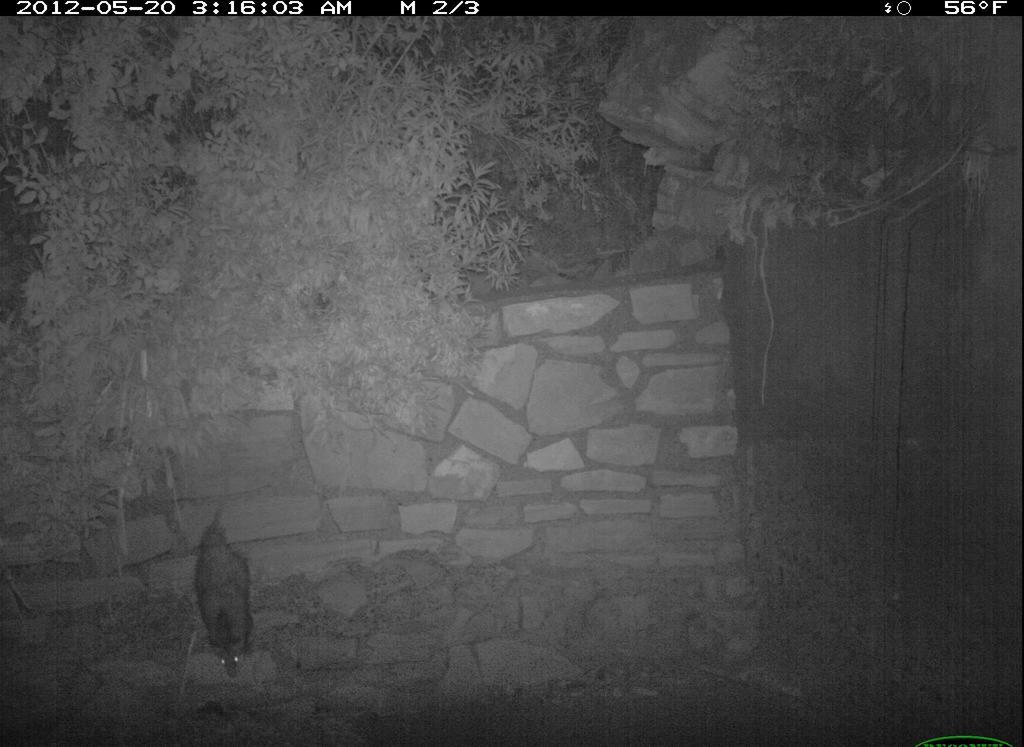opossum: (178, 492, 268, 693)
